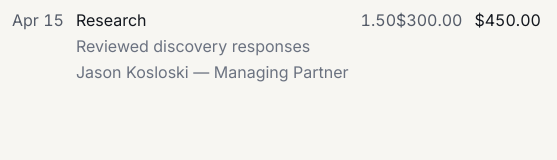
Test case: EditableLineItemRow — date-only values stay on the stored calendar day (ADR-012) › a narrative-only edit posts the unchanged stored date, never a drifted one
Click the button "Reviewed discovery responses" at (193, 46), box [72,36,314,56]
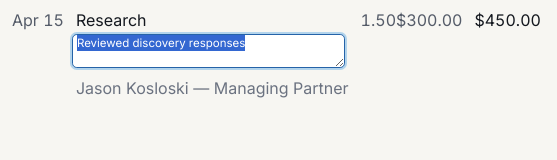
Type keys "Fixed a typo{Enter}"
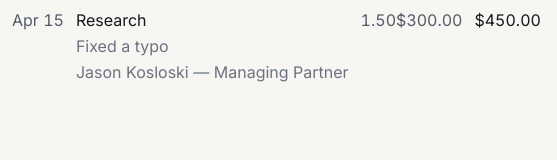
expect the button "Fixed a typo" is shown: met, box [72,36,173,56]
